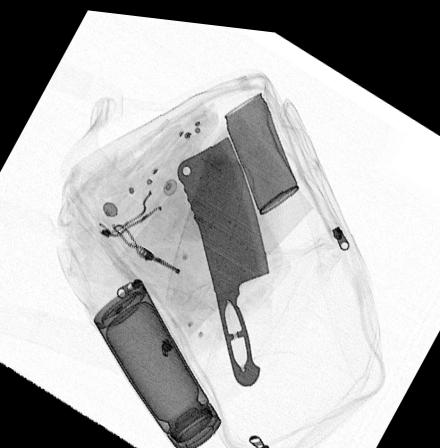Knife: (176, 130, 269, 381)
